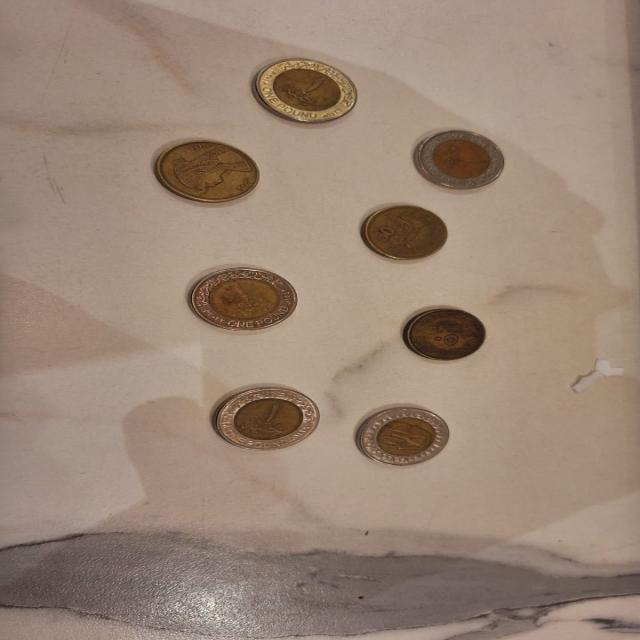Half Pound: (155, 140, 262, 205), (362, 202, 450, 266), (397, 308, 491, 364)
One Pound: (198, 383, 334, 453), (242, 55, 365, 125), (192, 268, 302, 328), (356, 404, 456, 466), (405, 132, 513, 188)
